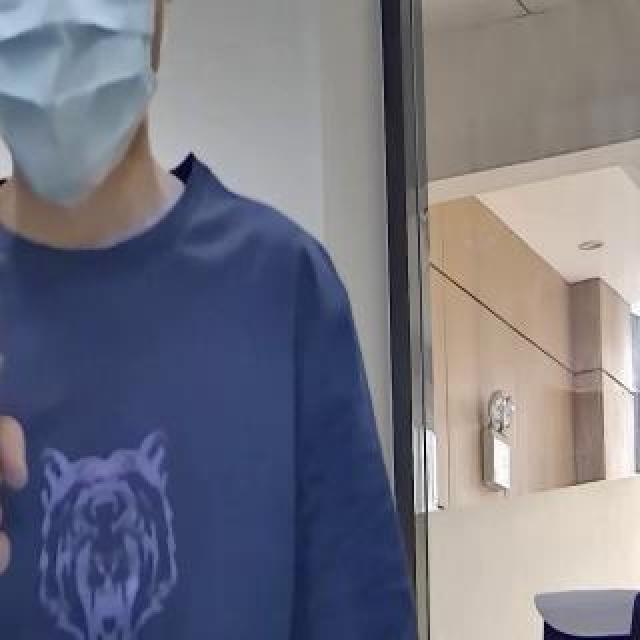Guns: (0, 232, 56, 580)
